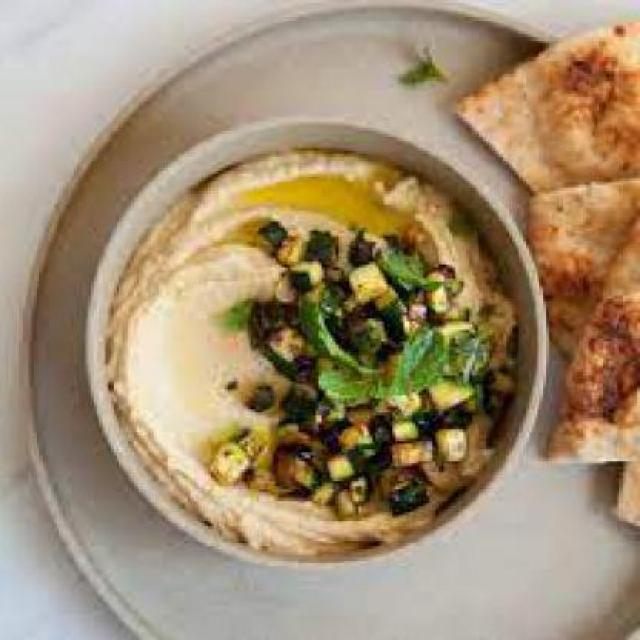eggplant: (245, 248, 472, 506)
hummus: (111, 134, 512, 563)
